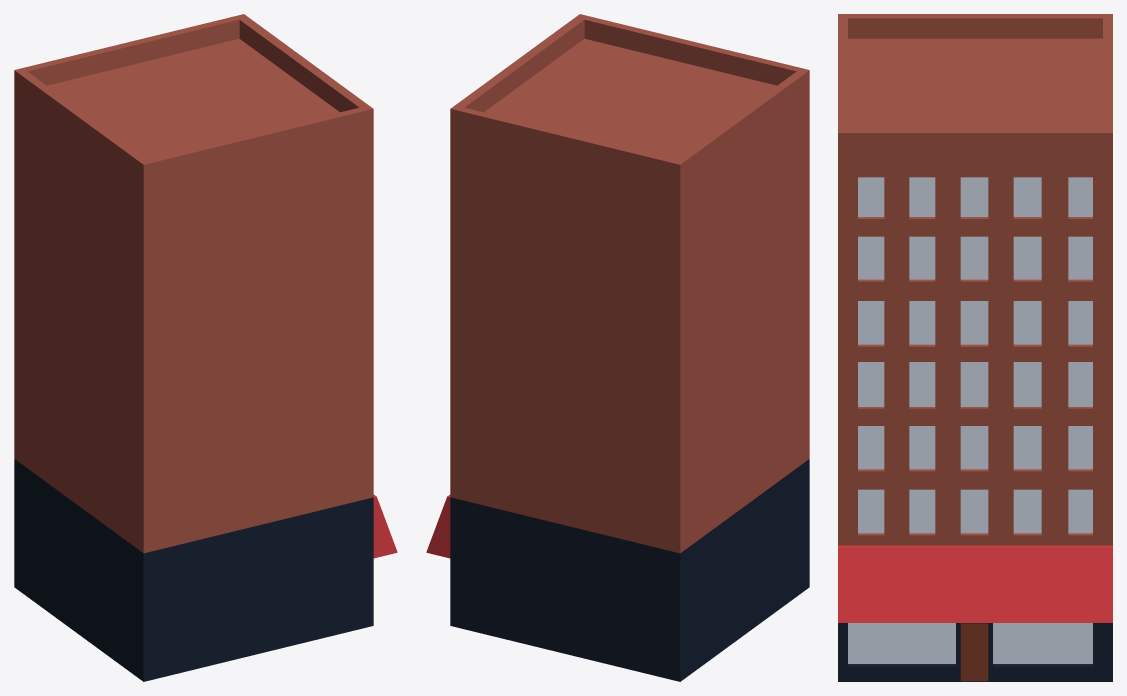
The model's file is Shop.fbx.
3 renders of one model, left to right at view 1: azimuth 30°, elevation 25°; view 2: azimuth 150°, elevation 25°; view 3: azimuth 270°, elevation 25°, orthographic. The views are drawn at different scales.
Parts seen in each view (by area): view 1: Cube, Cube.004, Cube.003; view 2: Cube, Cube.004, Cube.003; view 3: Cube, Cube.001, Cube.003, Cube.004, Cube.002.
Part boxes in pixels (x1,y1,x2,y2): Cube: (14, 14, 373, 553); Cube.004: (14, 459, 373, 681); Cube.003: (373, 494, 397, 558); Cube: (450, 14, 809, 553); Cube.004: (450, 459, 809, 681); Cube.003: (426, 494, 450, 558); Cube: (838, 14, 1112, 545); Cube.001: (848, 177, 1092, 663); Cube.003: (838, 545, 1112, 622); Cube.004: (838, 623, 1112, 681); Cube.002: (960, 623, 988, 680).
Size of the model in its own units: 447 by 870 by 395.
